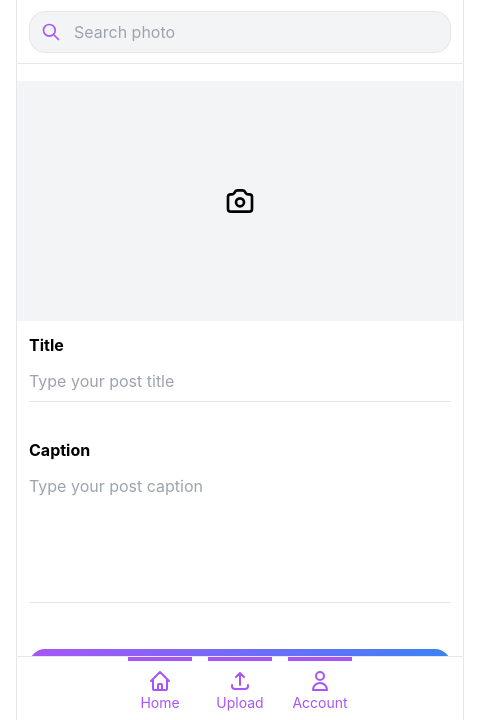
Test: Testing Upload Post › error pada input caption
Step 1. Type "a" into the text box with test id "input-caption" → x=240, y=534, box [29,466,451,603]
Then press Backspace
Step 2. Press Tab
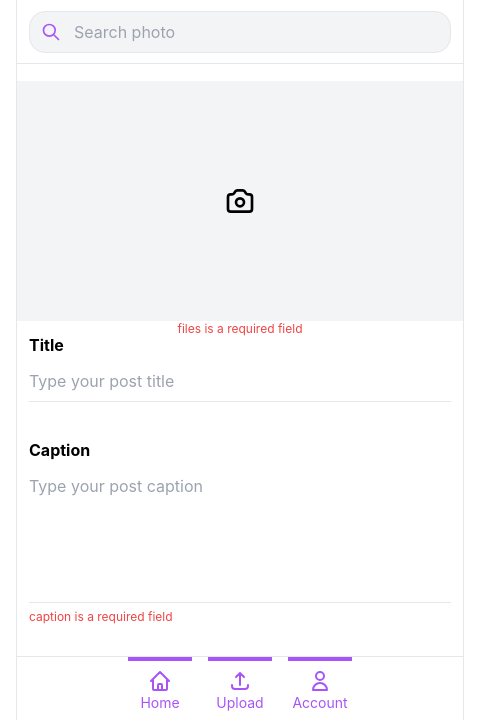
Expected: the text "caption is a required field" is shown, [29,609,173,624]
